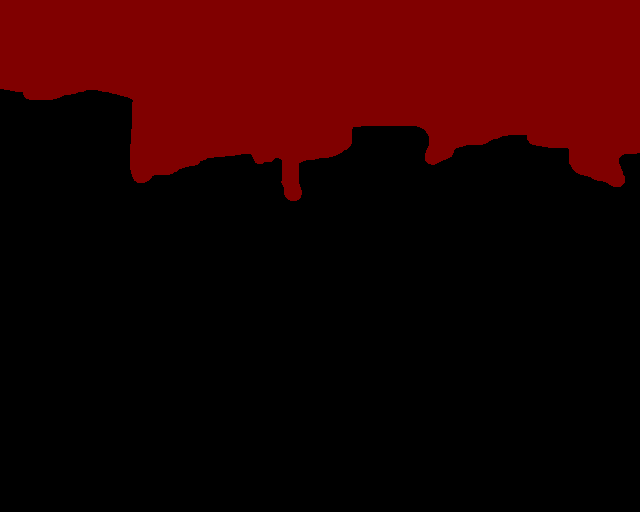Sky: (1, 1, 639, 201)
